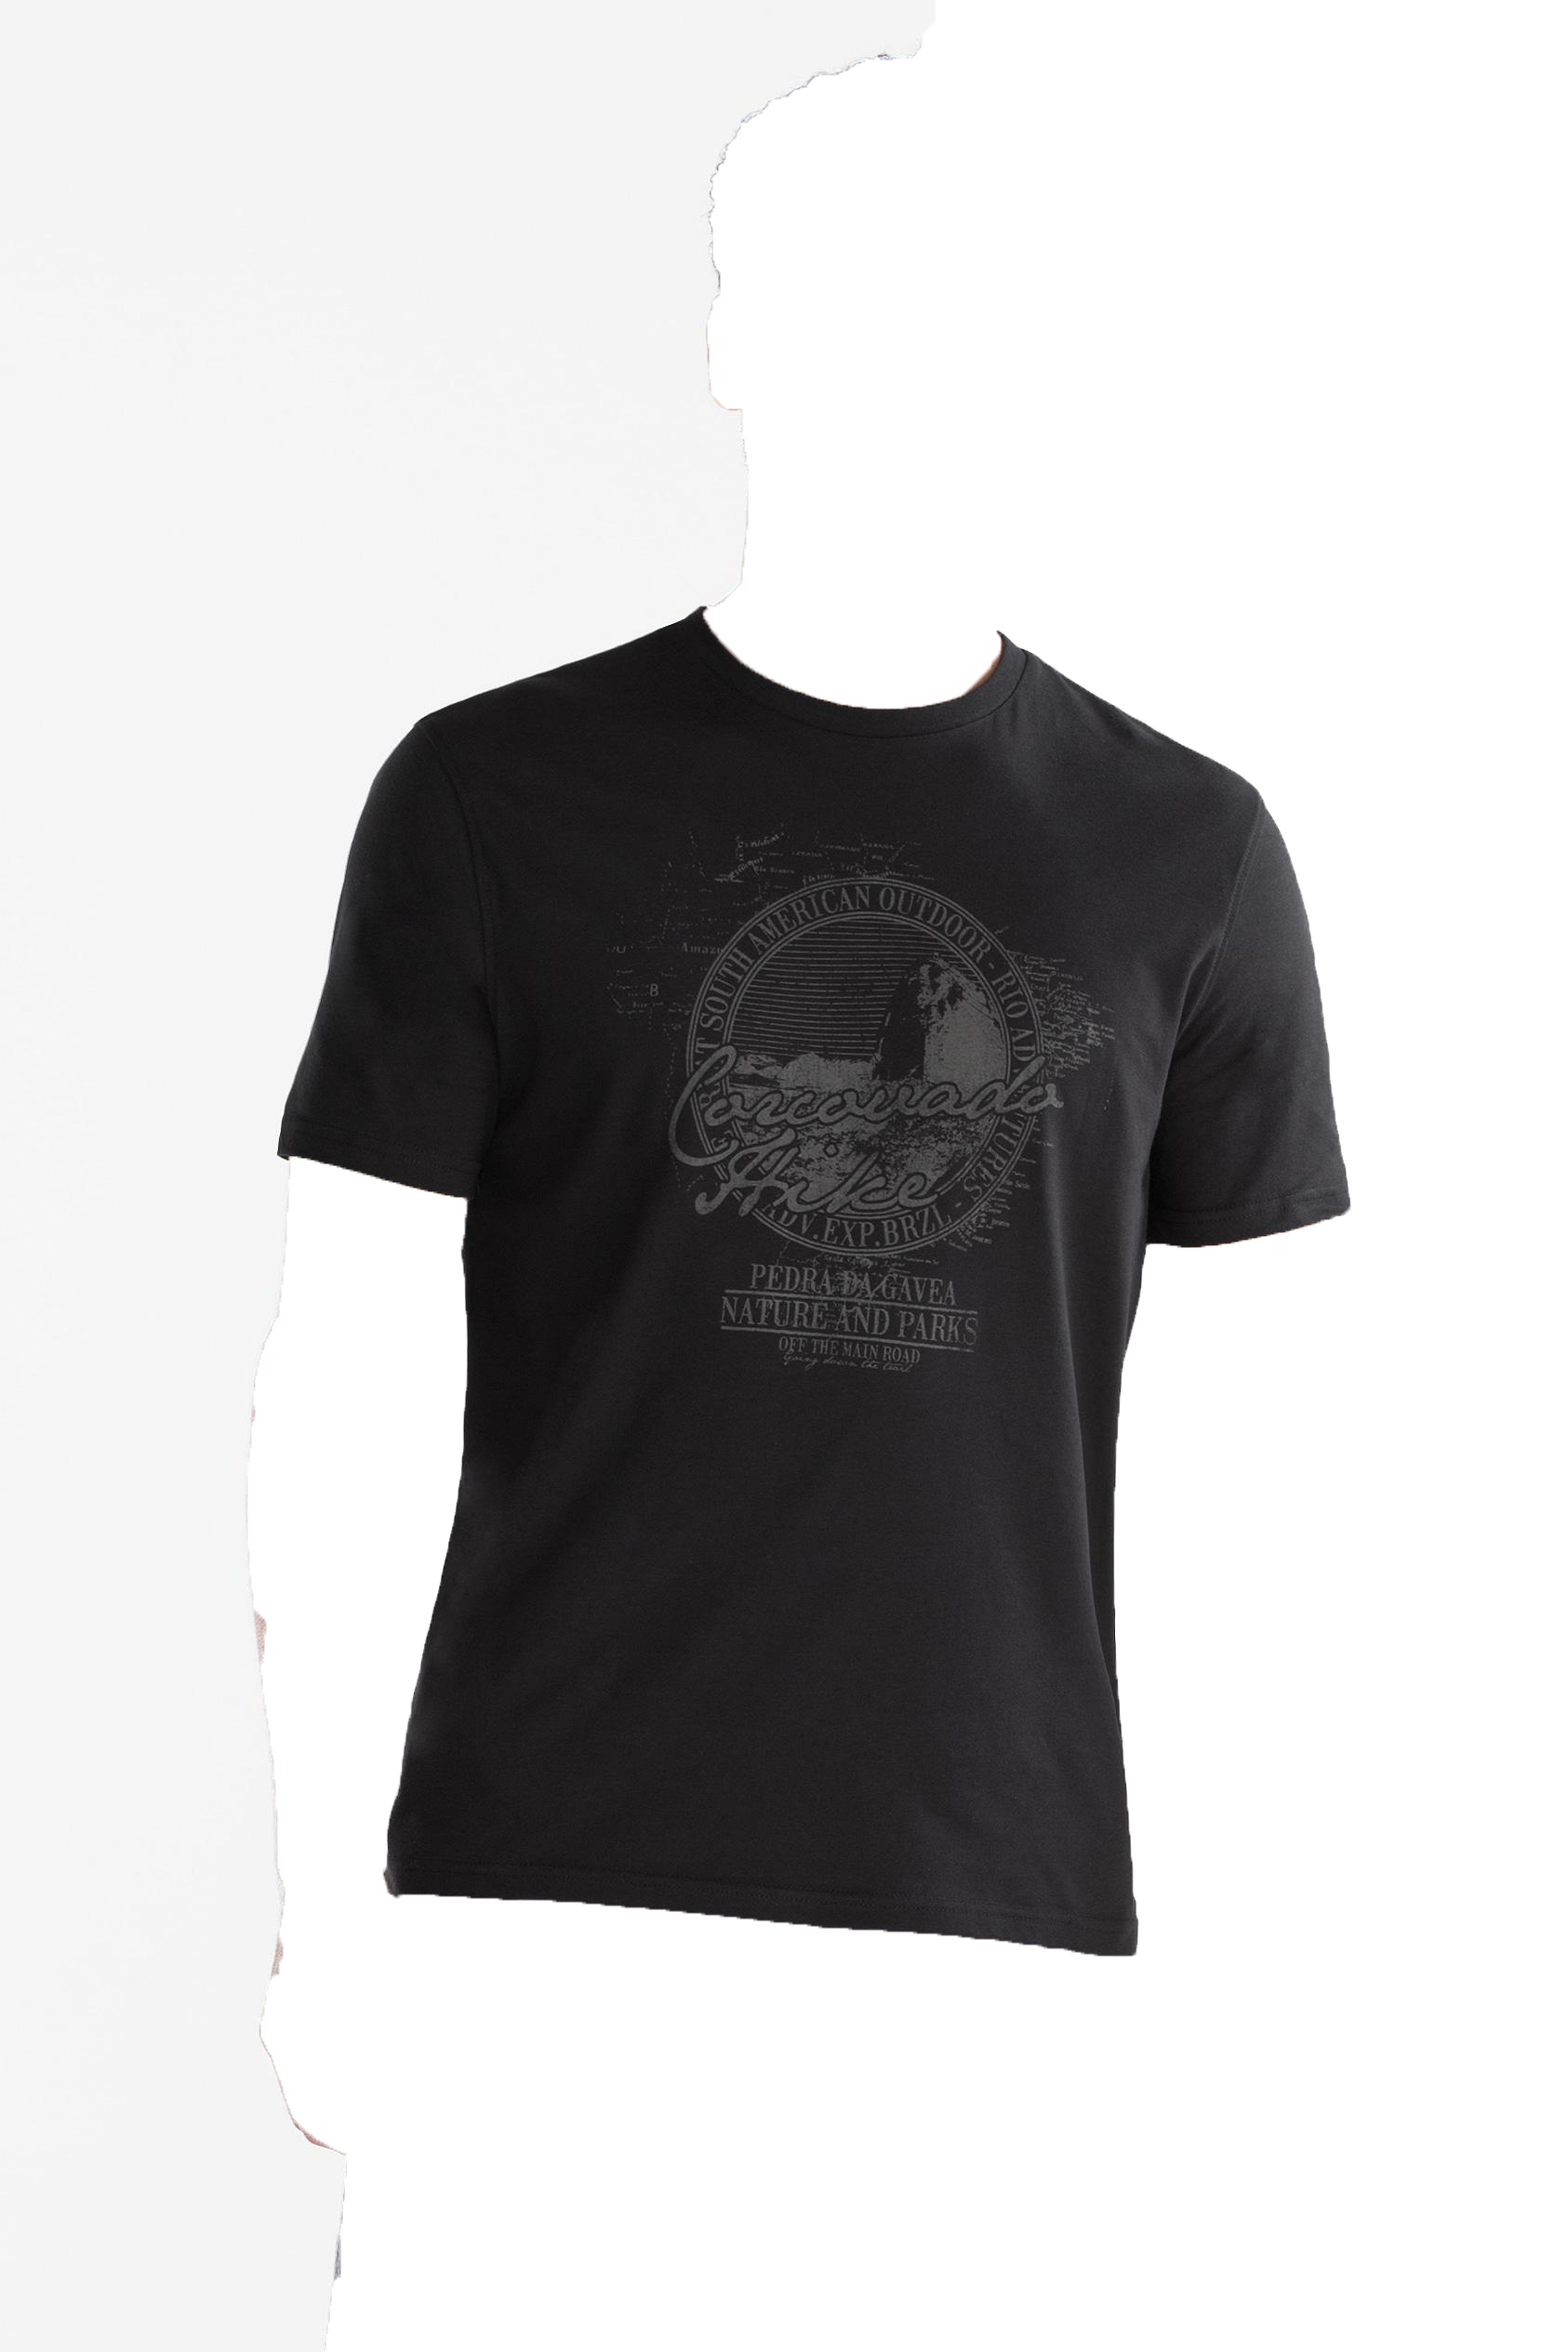teeshirt: (255, 584, 1351, 2026)
